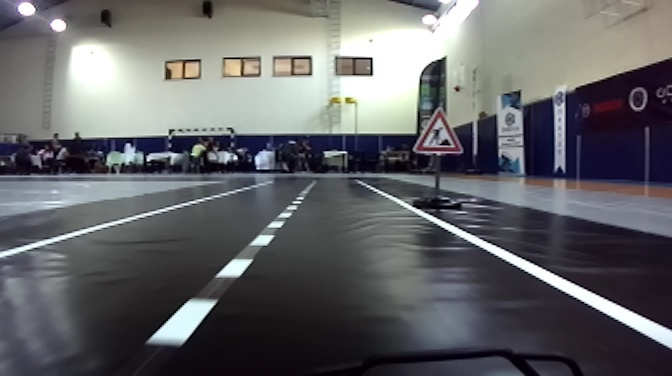yol_yapimi: (408, 110, 463, 162)
